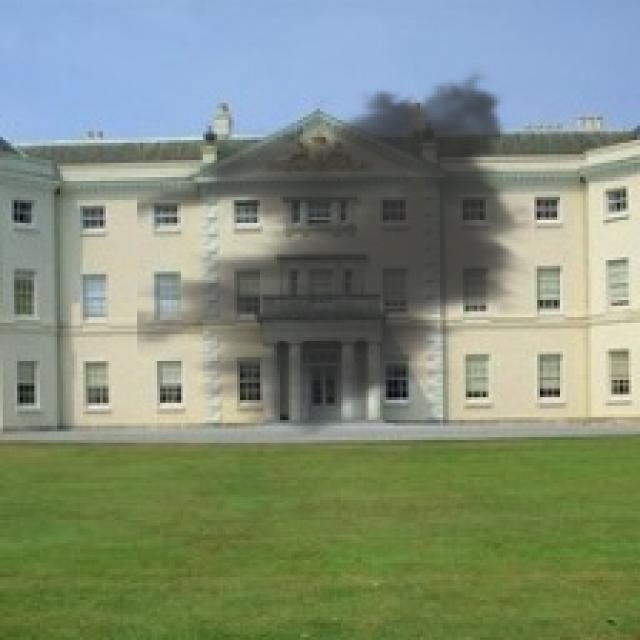smoke: (137, 63, 540, 446)
